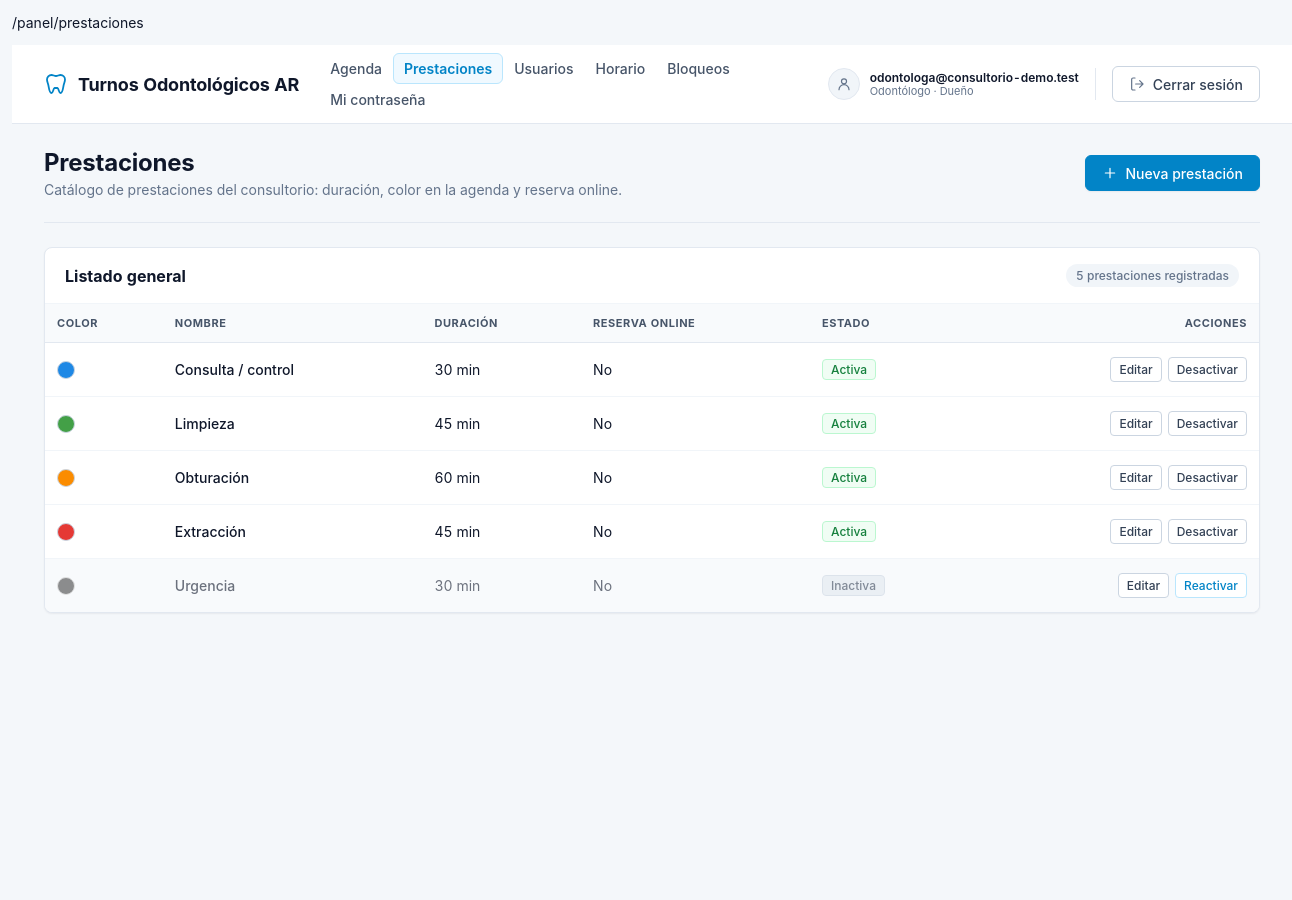
PaginaPrestaciones: alta › US-001 CA-1: reserva online marcada manda true y la fila dice Sí
Check: the table is shown, box [45,304,1259,612]
Click the button "Nueva prestación".
click(1172, 173)  # box [1084,155,1260,191]
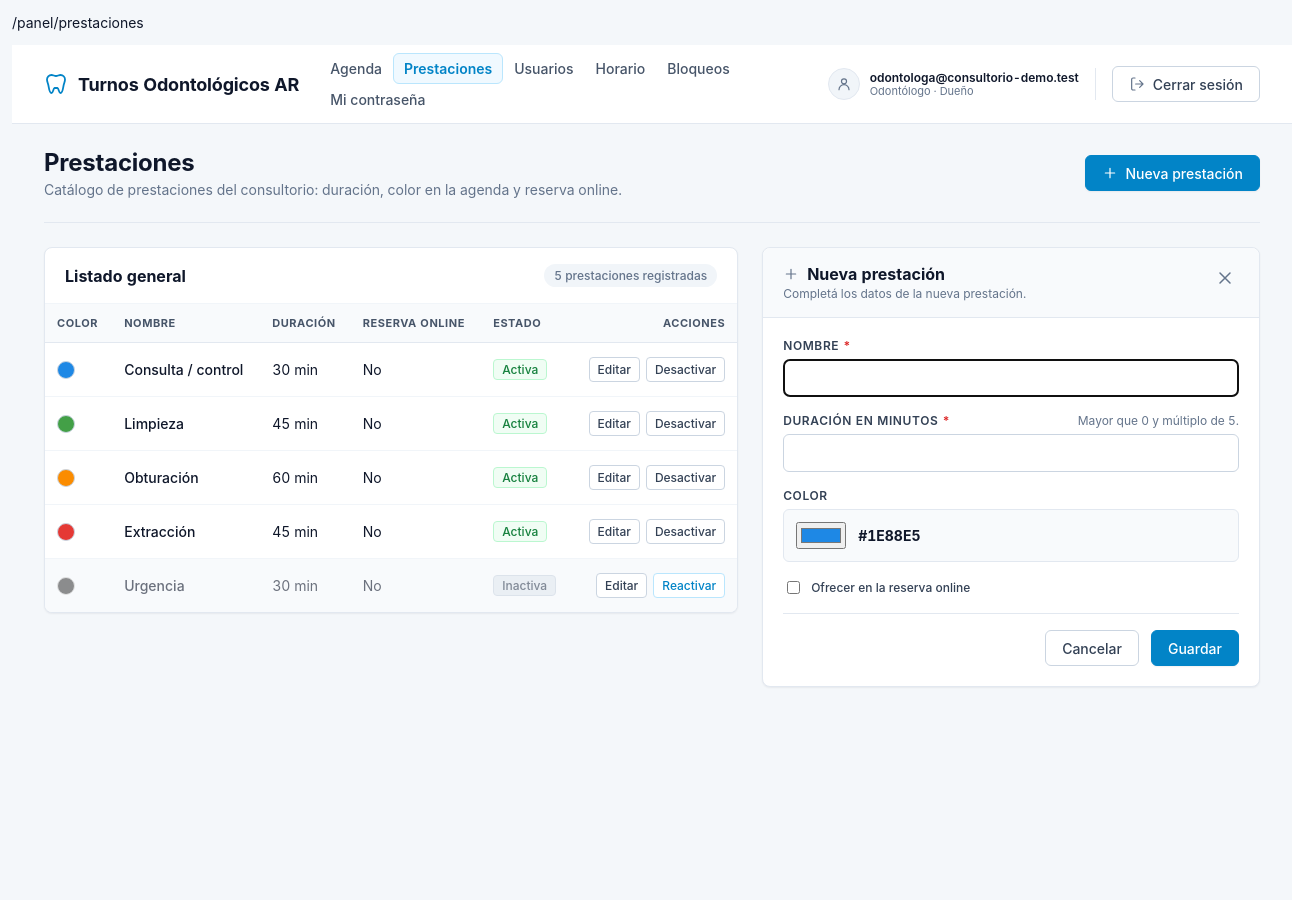
Type "Control de ortodoncia" into the field labelled "Nombre".
click(1011, 378); type("Control de ortodoncia")  # box [783,359,1239,397]
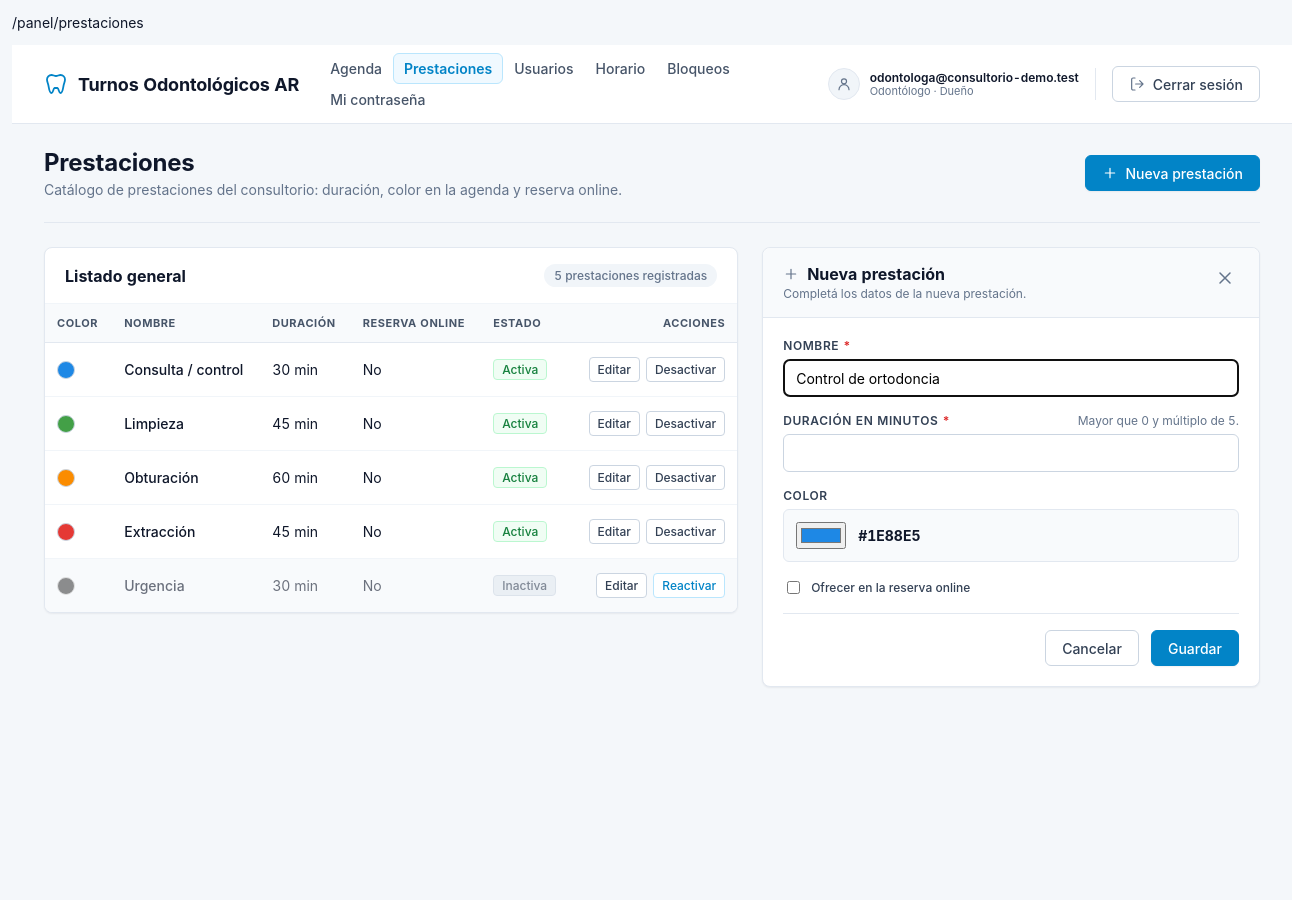
Type "30" into the number field labelled "Duración en minutos".
click(1011, 453); type("30")  # box [783,434,1239,472]
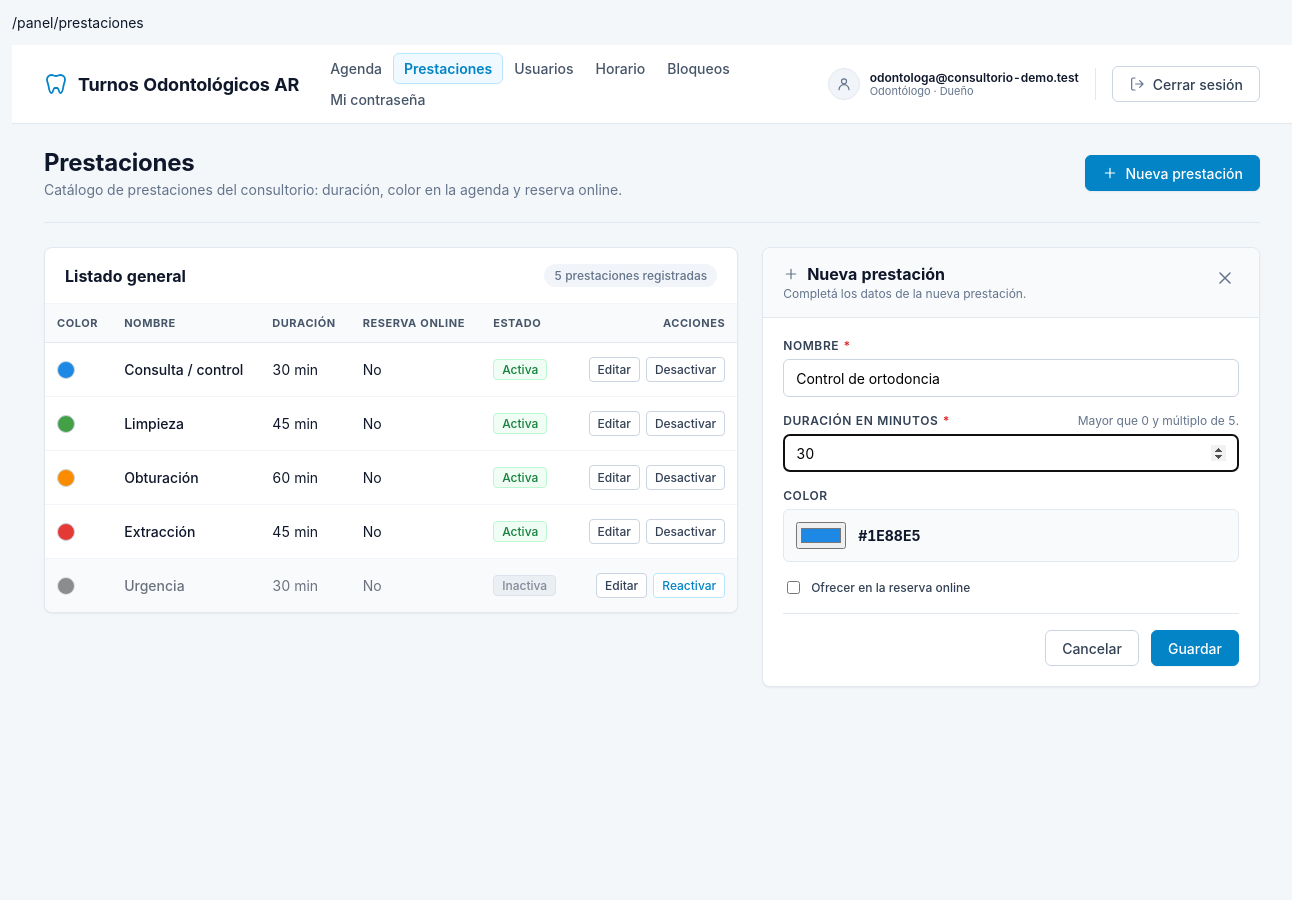
Click the checkbox labelled "Ofrecer en la reserva online".
click(794, 588)  # box [787,581,800,594]
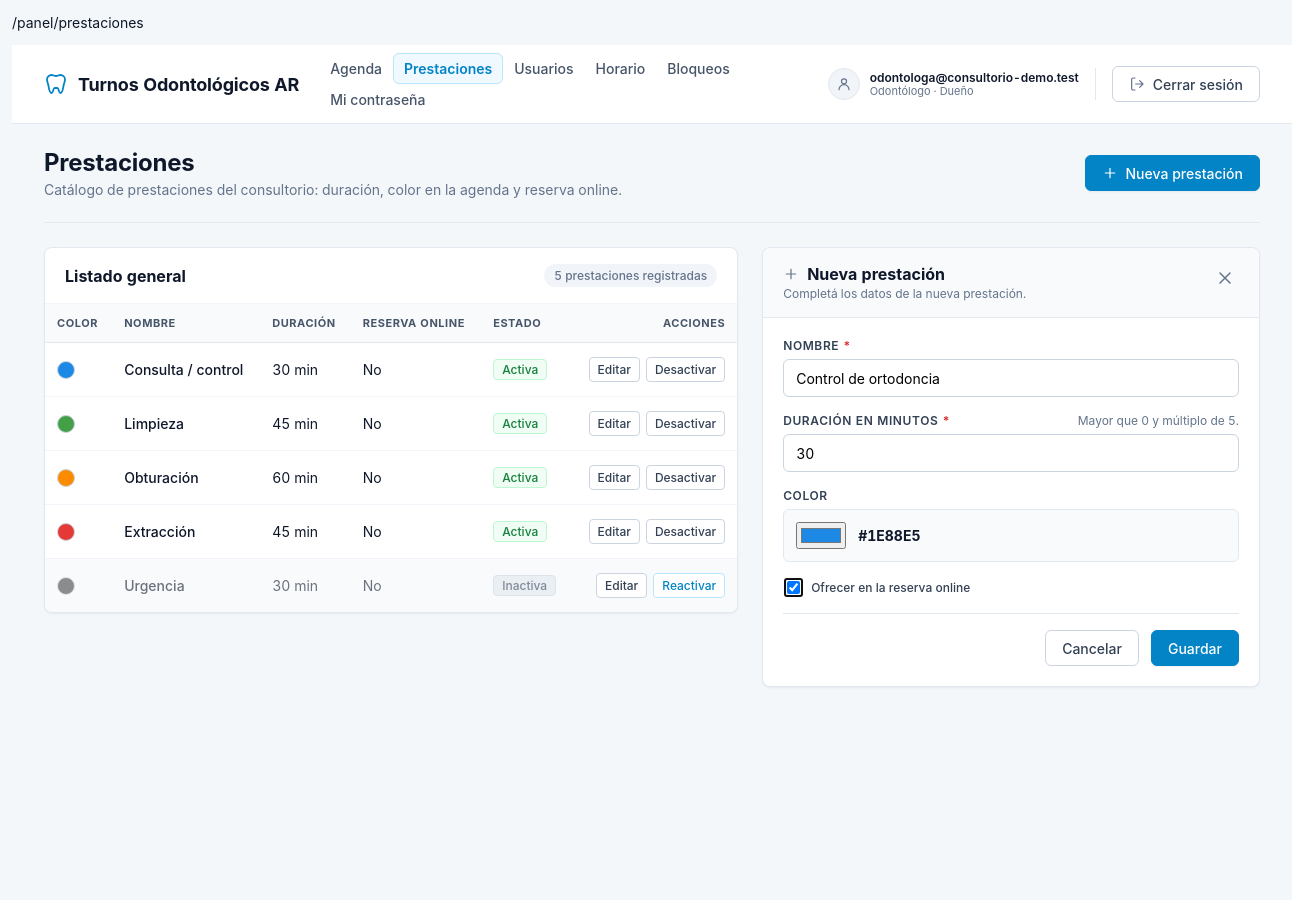
Click the button "Guardar".
click(1195, 648)  # box [1151,630,1239,666]
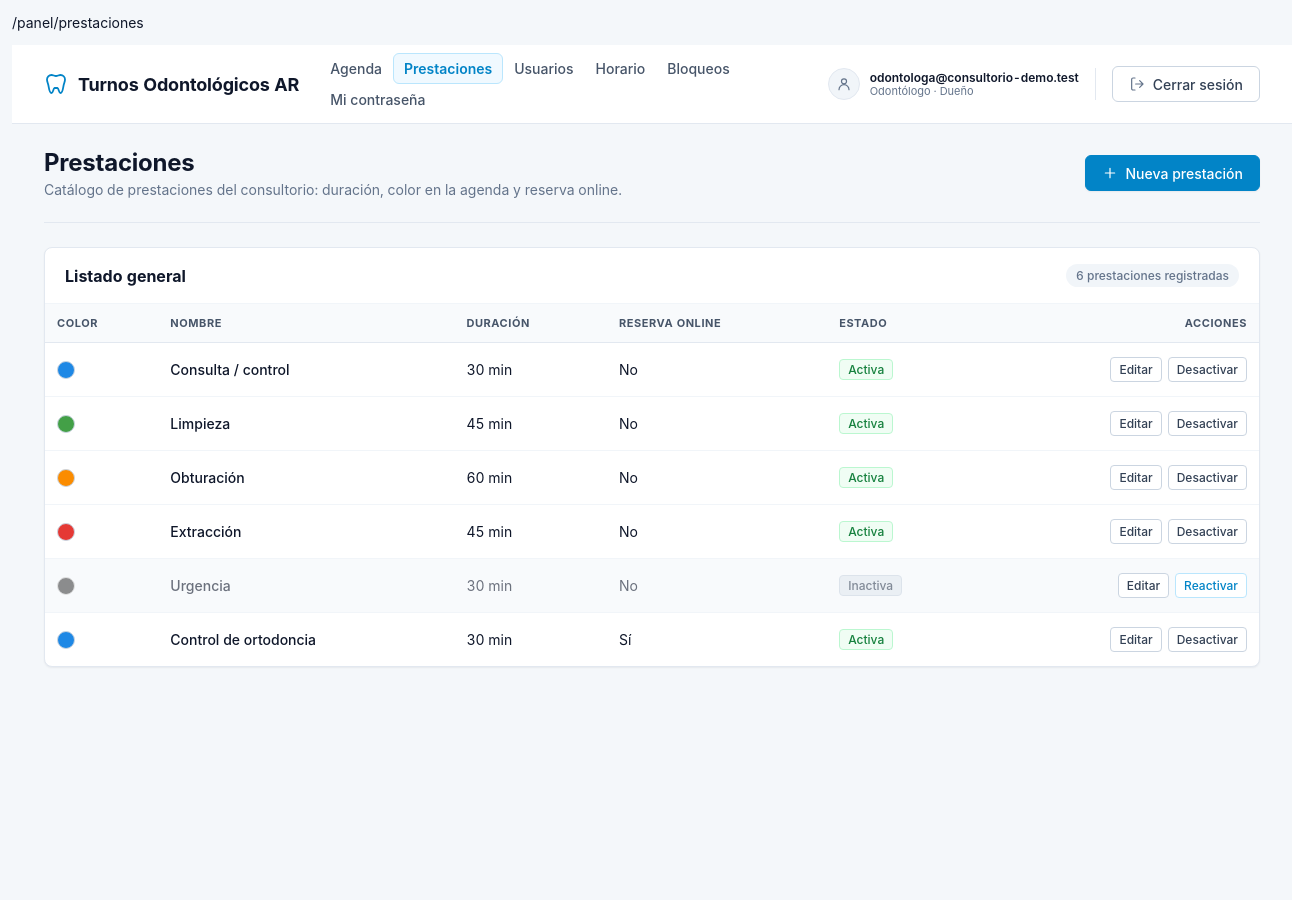
Check: the text "Sí" is shown, box [607,612,827,666]
